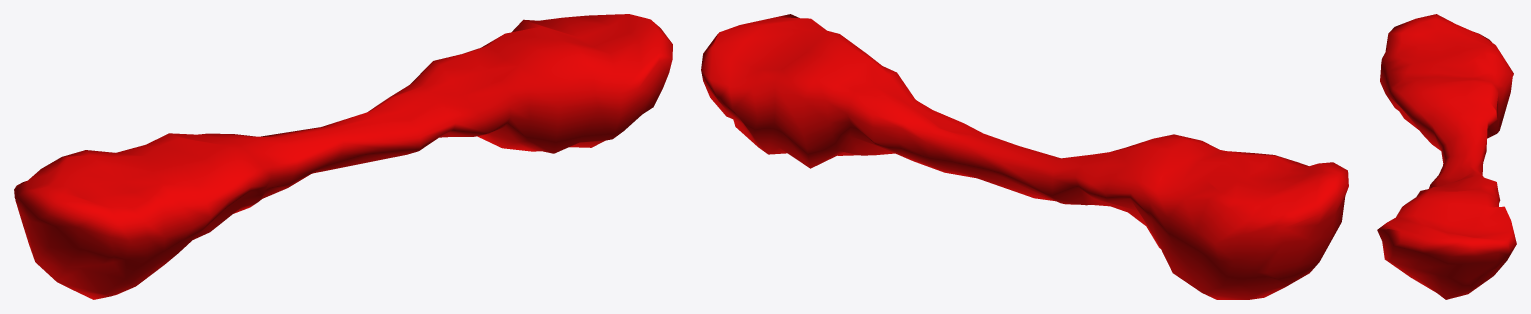
File: FloatyWallAttachment05_mesh.fbx
The picture shows the model from 3 angles, left to right: view 1: azimuth 30°, elevation 25°; view 2: azimuth 150°, elevation 25°; view 3: azimuth 270°, elevation 25°; orthographic projection. The views are drawn at different scales.
Parts seen in each view (by area): view 1: Floaty_wallattachment05_model; view 2: Floaty_wallattachment05_model; view 3: Floaty_wallattachment05_model.
Boxes of the visible parts, x1,y1,x2,y2 form: Floaty_wallattachment05_model: (14, 14, 672, 299); Floaty_wallattachment05_model: (701, 14, 1348, 299); Floaty_wallattachment05_model: (1377, 14, 1516, 299).
Size of the model in its own units: 78.02 by 17.57 by 19.37.
